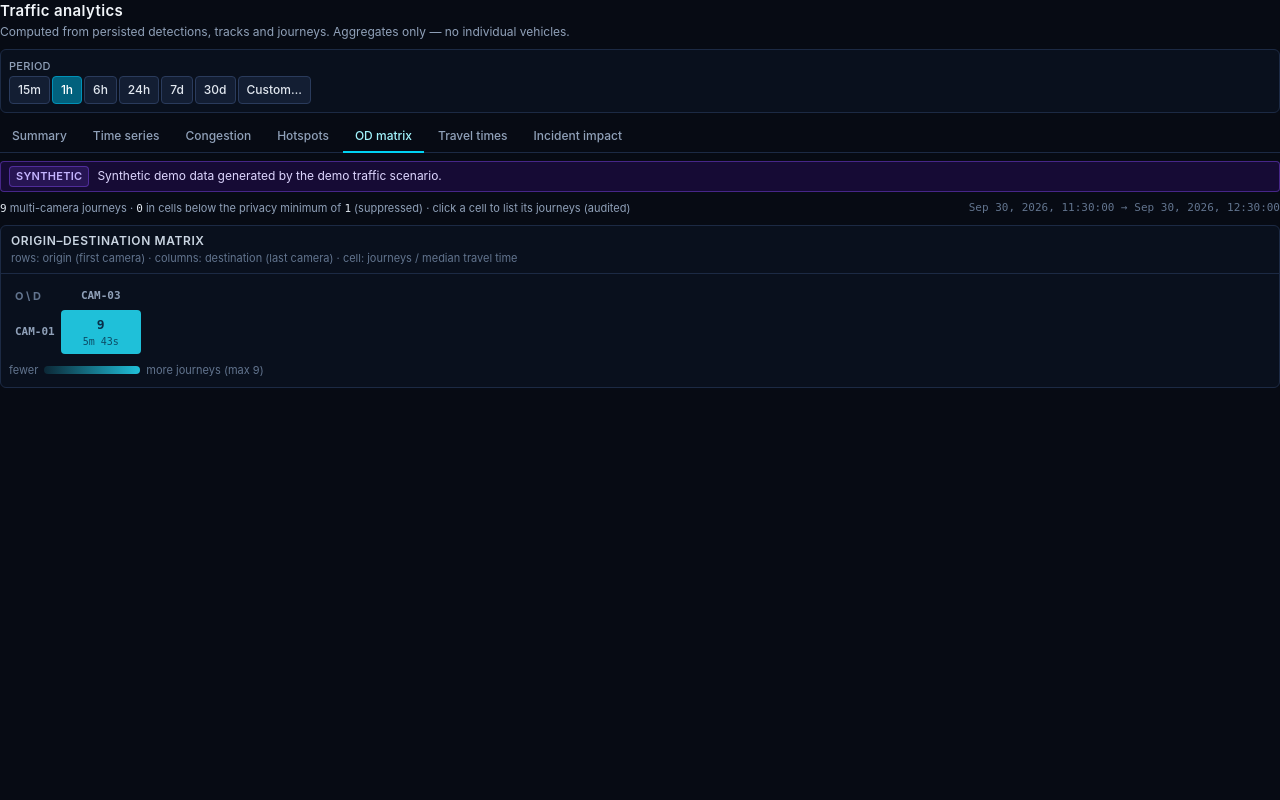
Test case: Analytics page › renders the OD heatmap and drills into a cell (audited endpoint) for authorised users
Click the button named "Journeys CAM-01 to CAM-03".
click(101, 332)  # box [61, 310, 141, 354]
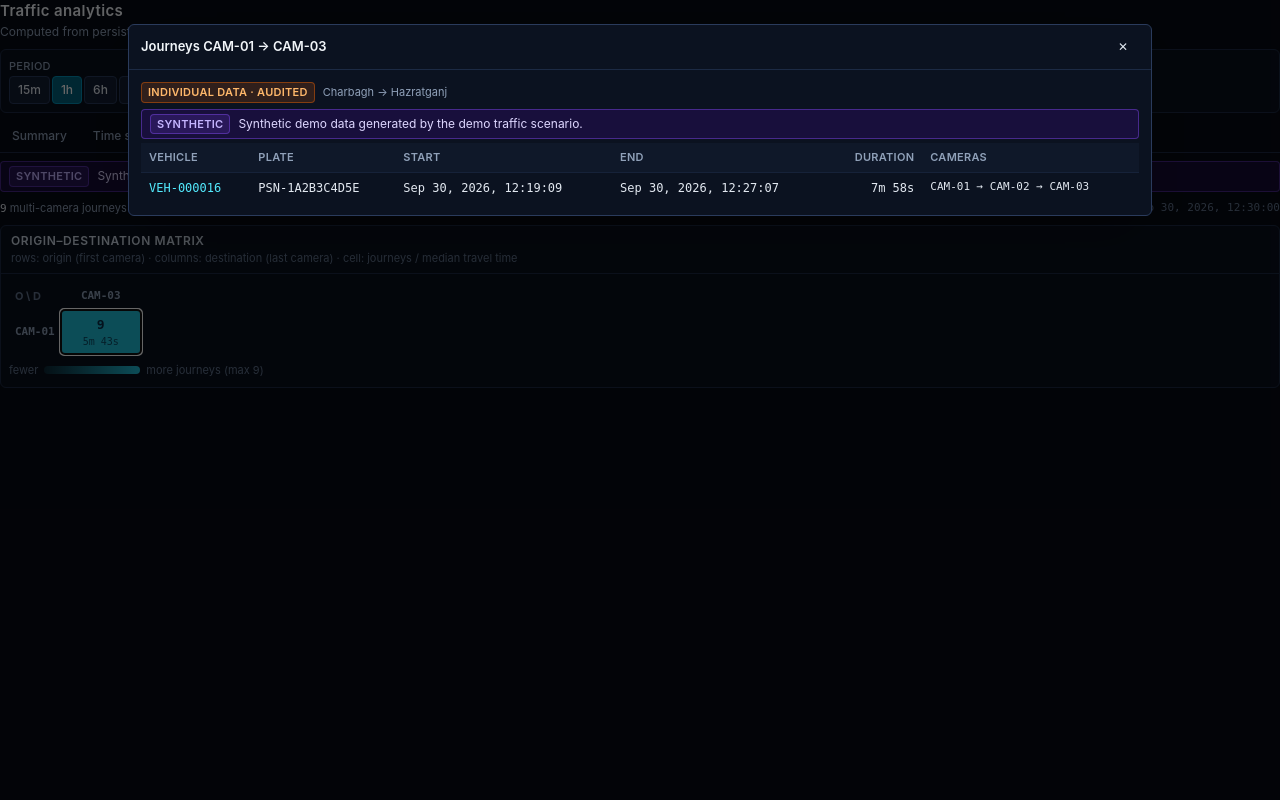
Result: the text "PSN-1A2B3C4D5E" is shown at [250, 172, 395, 202]
